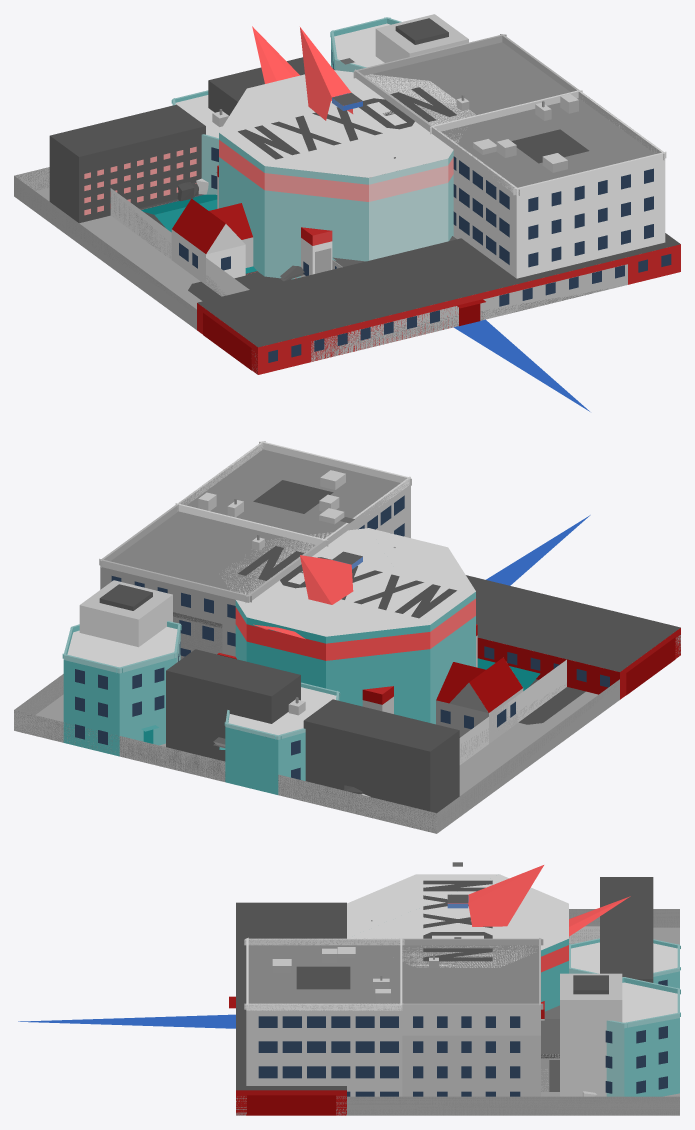
File: special_targets.glb
The picture shows the model from 3 angles, top to bottom: view 1: azimuth 30°, elevation 25°; view 2: azimuth 150°, elevation 25°; view 3: azimuth 270°, elevation 25°; orthographic projection. The views are drawn at different scales.
Visible parts, largest first — view 1: special_targets_004_lod0_s1v0, special_targets_009_lod0, special_targets_002_lod0_s1v0, special_targets_011_lod0_s1v0, special_targets_024_lod0_s1v0, special_targets_010_lod0, special_targets_002_lod0_s1v0_detail, special_targets_009_lod0_s1v0, special_targets_024_lod0_s1v0_detail, special_targets_012_lod0, special_targets_009_lod0_detail, special_targets_008_lod0_s1v1 (+7 smaller); view 2: special_targets_004_lod0_s1v0, special_targets_011_lod0_s1v0, special_targets_009_lod0_s1v0, special_targets_024_lod0_s1v0, special_targets_010_lod0, special_targets_009_lod0, special_targets_002_lod0_s1v0, special_targets_024_lod0_s1v0_detail, special_targets_002_lod0_s1v0_detail, special_targets_009_lod0_s1v0_detail, special_targets_012_lod0, special_targets_008_lod0_s1v1 (+7 smaller); view 3: special_targets_002_lod0_s1v0, special_targets_024_lod0_s1v0, special_targets_004_lod0_s1v0, special_targets_011_lod0_s1v0, special_targets_024_lod0_s1v0_detail, special_targets_009_lod0_s1v0, special_targets_002_lod0, special_targets_010_lod0, special_targets_009_lod0, special_targets_002_lod0_s1v0_detail, special_targets_009_lod0_s1v0_detail, special_targets_008_lod0_s1v1 (+4 smaller).
Boxes of the visible parts, <box> form: special_targets_004_lod0_s1v0: <box>219,70,475,279</box>; special_targets_009_lod0: <box>197,233,680,374</box>; special_targets_002_lod0_s1v0: <box>441,98,665,278</box>; special_targets_011_lod0_s1v0: <box>49,14,468,223</box>; special_targets_024_lod0_s1v0: <box>366,42,653,277</box>; special_targets_010_lod0: <box>14,167,627,374</box>; special_targets_002_lod0_s1v0_detail: <box>430,90,666,267</box>; special_targets_009_lod0_s1v0: <box>35,23,390,309</box>; special_targets_024_lod0_s1v0_detail: <box>353,34,664,260</box>; special_targets_012_lod0: <box>110,188,256,296</box>; special_targets_009_lod0_detail: <box>203,254,671,370</box>; special_targets_008_lod0_s1v1: <box>300,27,353,120</box>; special_targets_004_lod0_s1v0: <box>222,528,475,724</box>; special_targets_011_lod0_s1v0: <box>79,580,459,812</box>; special_targets_009_lod0_s1v0: <box>35,627,598,795</box>; special_targets_024_lod0_s1v0: <box>100,450,410,656</box>; special_targets_010_lod0: <box>14,635,680,833</box>; special_targets_009_lod0: <box>466,575,680,699</box>; special_targets_002_lod0_s1v0: <box>180,449,410,659</box>; special_targets_024_lod0_s1v0_detail: <box>99,441,410,654</box>; special_targets_002_lod0_s1v0_detail: <box>173,441,411,628</box>; special_targets_009_lod0_s1v0_detail: <box>62,621,340,779</box>; special_targets_012_lod0: <box>459,659,566,764</box>; special_targets_008_lod0_s1v1: <box>300,555,353,604</box>; special_targets_002_lod0_s1v0: <box>246,945,559,1096</box>; special_targets_024_lod0_s1v0: <box>246,945,559,1096</box>; special_targets_004_lod0_s1v0: <box>347,874,568,1011</box>; special_targets_011_lod0_s1v0: <box>560,877,653,1096</box>; special_targets_024_lod0_s1v0_detail: <box>244,938,543,1096</box>; special_targets_009_lod0_s1v0: <box>541,927,679,1096</box>; special_targets_002_lod0: <box>402,1035,559,1096</box>; special_targets_010_lod0: <box>236,909,679,1115</box>; special_targets_009_lod0: <box>236,902,346,1115</box>; special_targets_002_lod0_s1v0_detail: <box>244,937,559,1096</box>; special_targets_009_lod0_s1v0_detail: <box>569,938,680,1093</box>; special_targets_008_lod0_s1v1: <box>448,865,543,926</box>.
Size of what is drawn, in the model's own units: 513 by 200 by 769.
